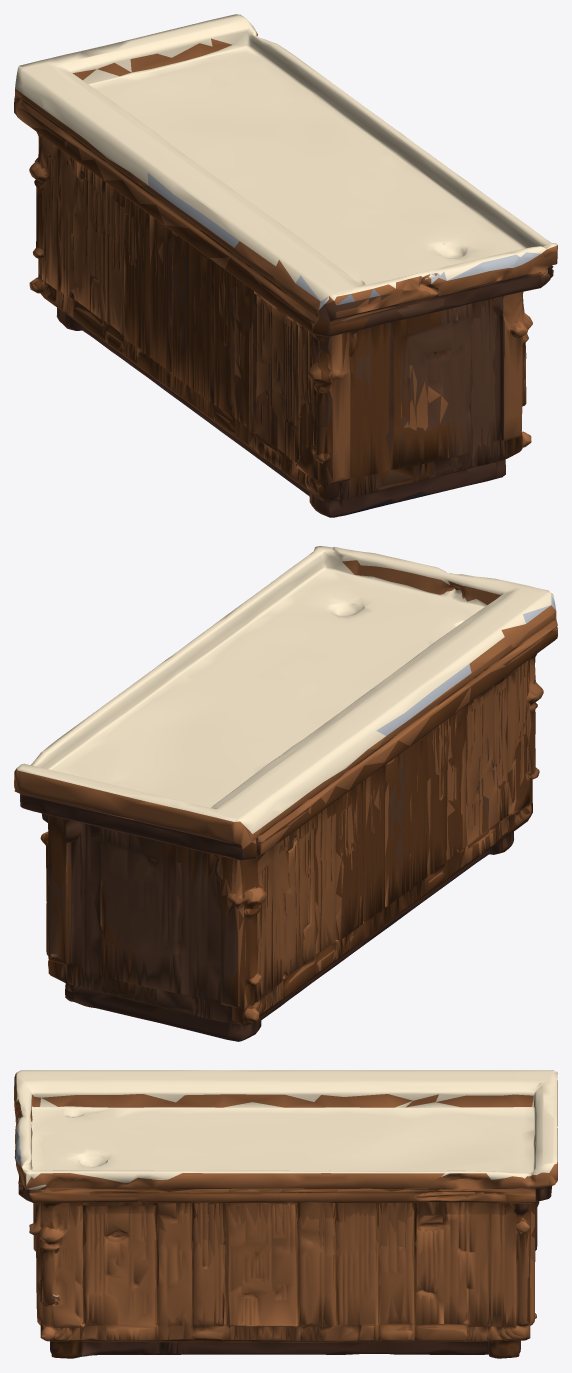
The model's file is SM_chest_wood.fbx.
3 views of the same model, one above another, from view 1: azimuth 30°, elevation 25°; view 2: azimuth 150°, elevation 25°; view 3: azimuth 270°, elevation 25° (orthographic). The views are drawn at different scales.
Parts seen in each view (by area): view 1: SM_chest_wood; view 2: SM_chest_wood; view 3: SM_chest_wood.
Boxes of the visible parts, box(x1,y1,x2,y2) form: SM_chest_wood: box(14, 14, 557, 517); SM_chest_wood: box(14, 546, 557, 1041); SM_chest_wood: box(14, 1070, 557, 1358).
Bounding box in the file's own units: 57.64 × 55 × 130.
Materials: 1 (1 with a texture image).
